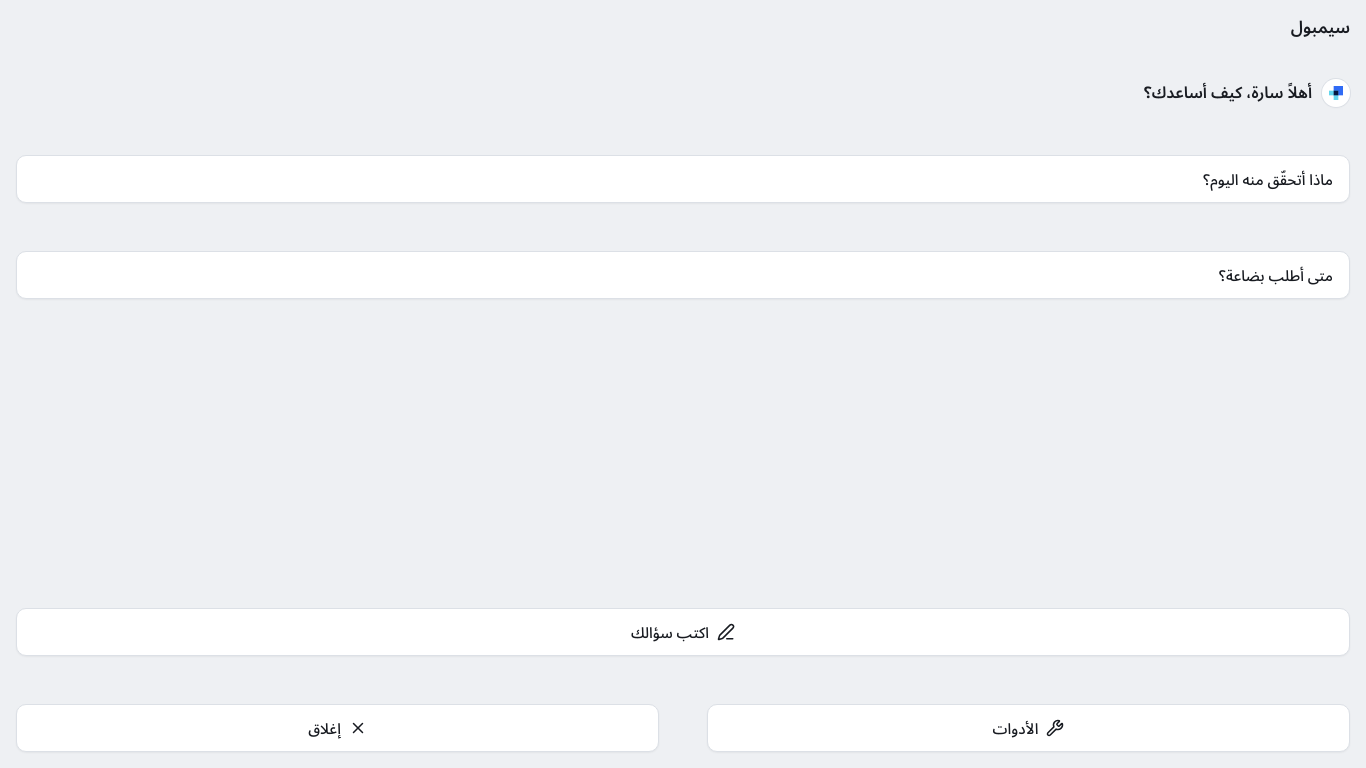
Test: the conversation sheet › opens on the gaze size at the start page: the ready questions on top and «اكتب سؤالك» last
The width and height of the screenshot is (1366, 768).
Click the button "اكتب سؤالك". click: (683, 632)
box: [16,608,1350,656]
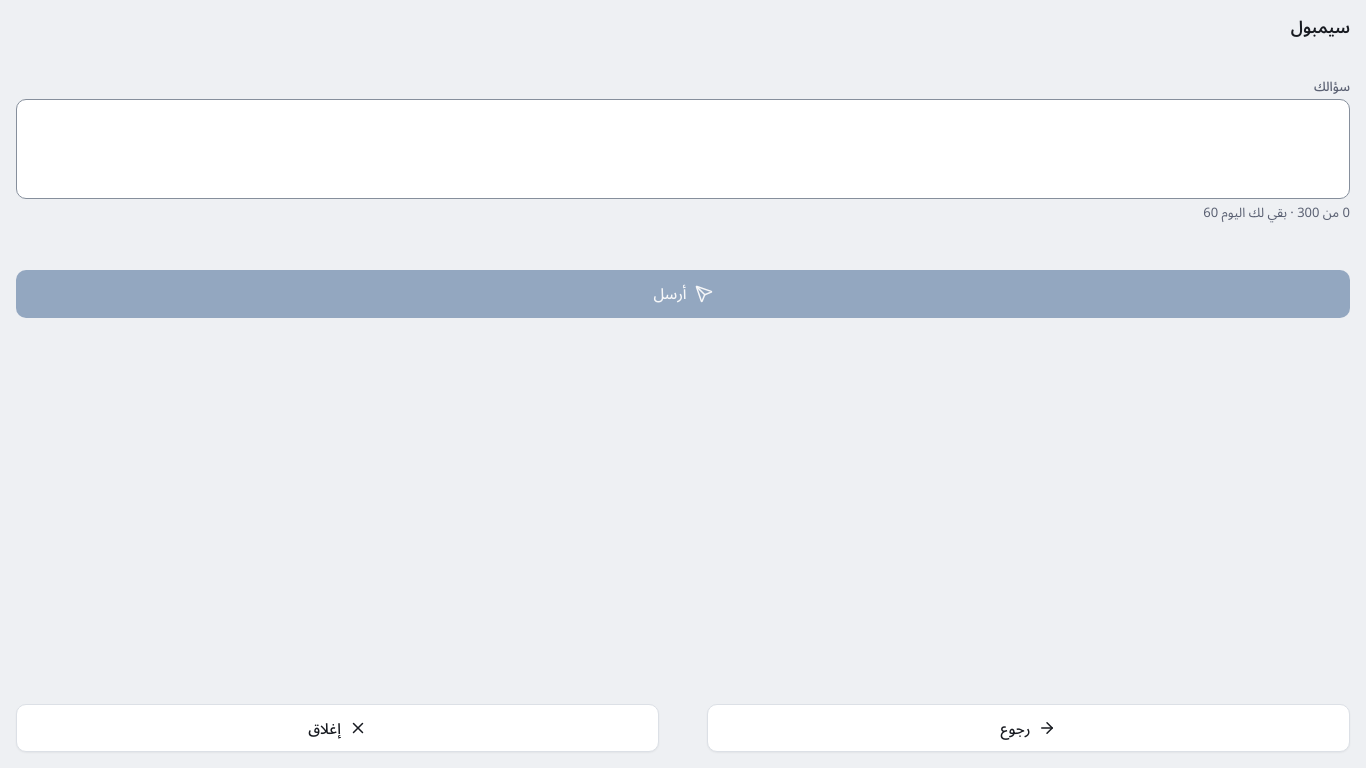
Result: the text box is shown at [16,99,1350,199]
Result: the button "أرسل" is disabled at [16,270,1350,318]
Result: the button "رجوع" is shown at [707,704,1350,752]
